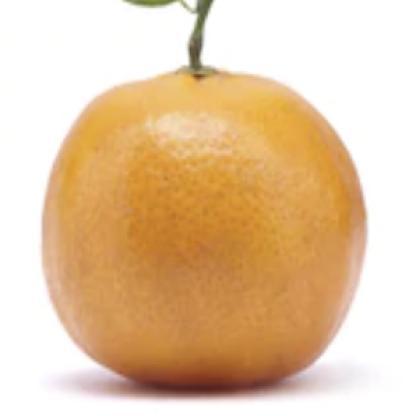fresh: (42, 59, 365, 387)
